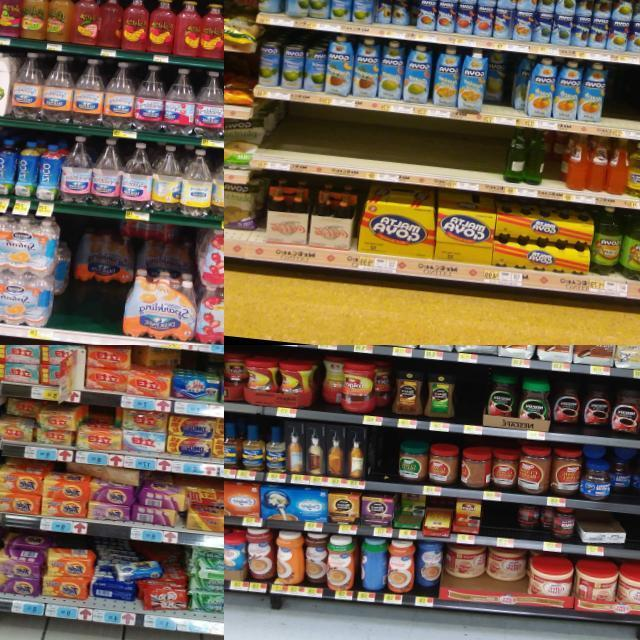empty: (293, 104, 406, 182), (402, 115, 467, 188), (65, 278, 124, 345), (462, 121, 506, 192), (259, 100, 298, 170), (609, 64, 640, 139), (453, 371, 486, 434), (480, 501, 518, 548), (371, 431, 400, 492), (624, 514, 640, 560)
